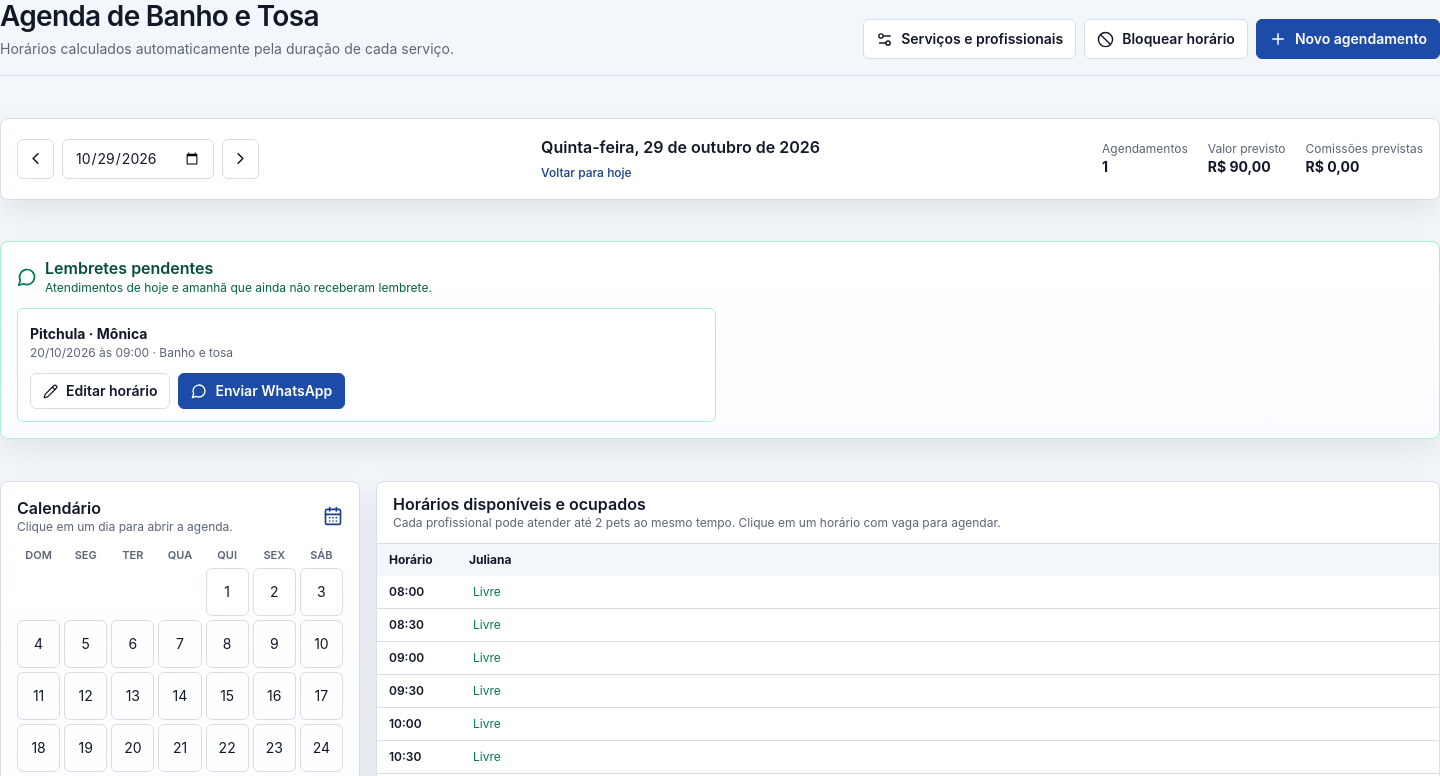
Test case: correção do horário na agenda › mantém o formulário e apresenta a mensagem quando o novo horário está lotado
Click the button "Editar horário" at (100, 391), box [30,373,170,409]
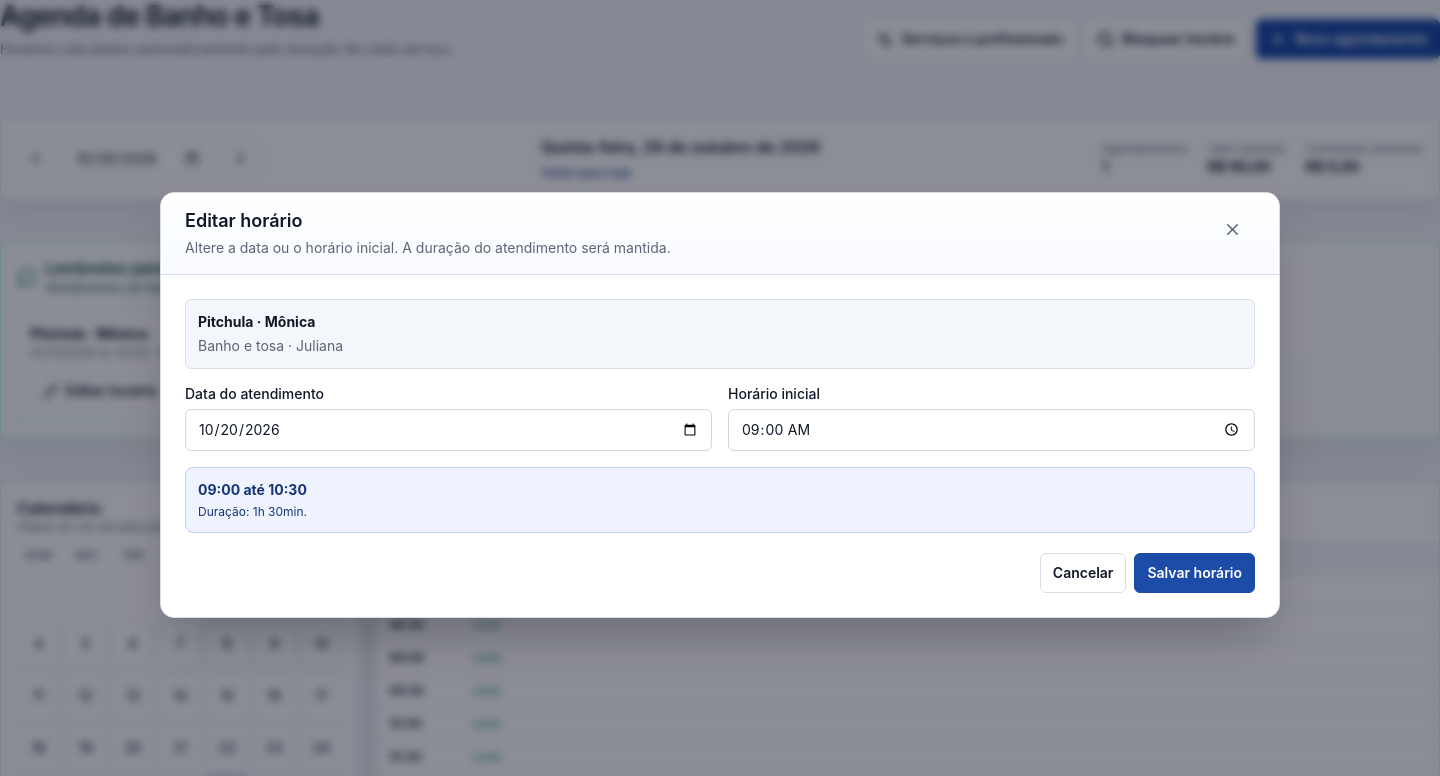
Replace the text in the time field labelled "Horário inicial" with "11:00" at (992, 430), box [728,409,1255,451]
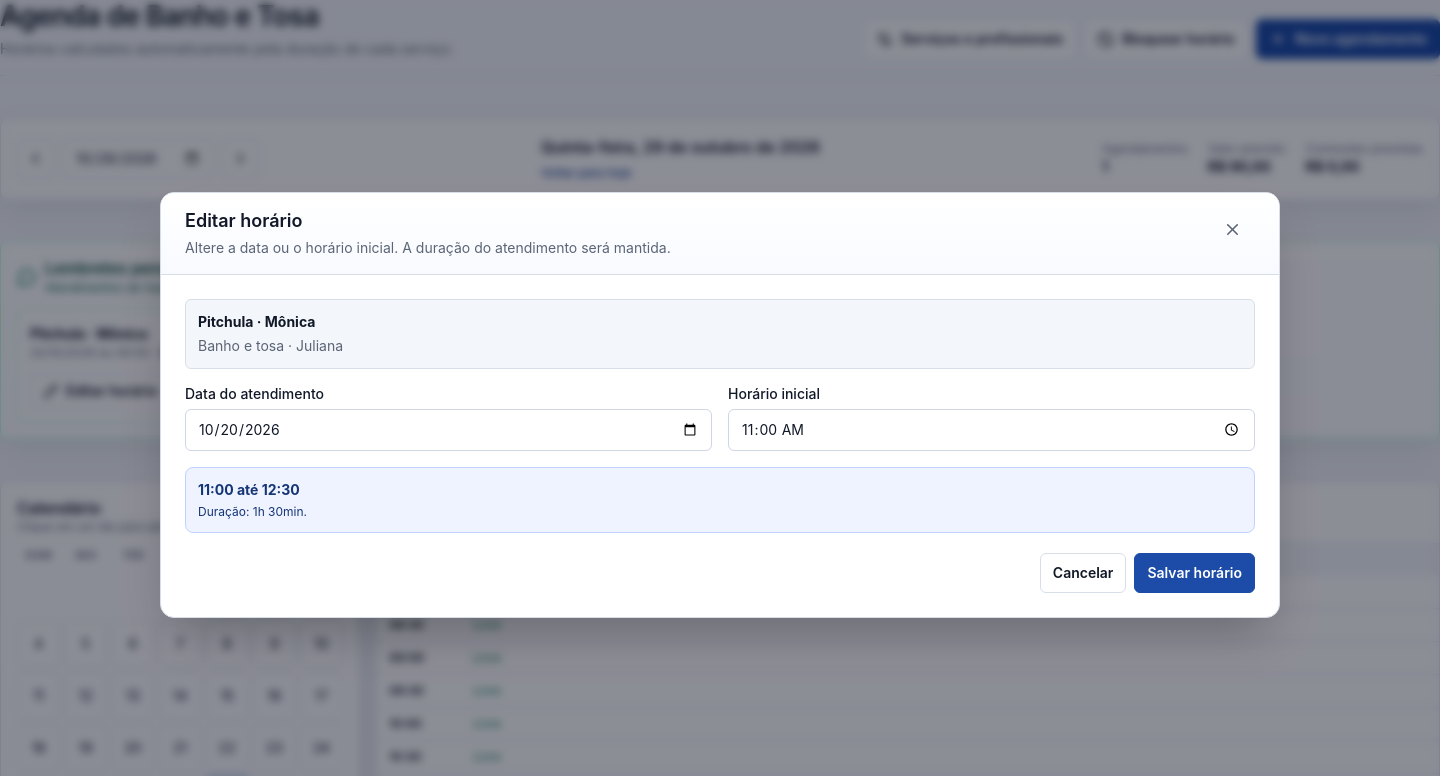
Click the button "Salvar horário" at (1195, 573), box [1134,553,1255,593]
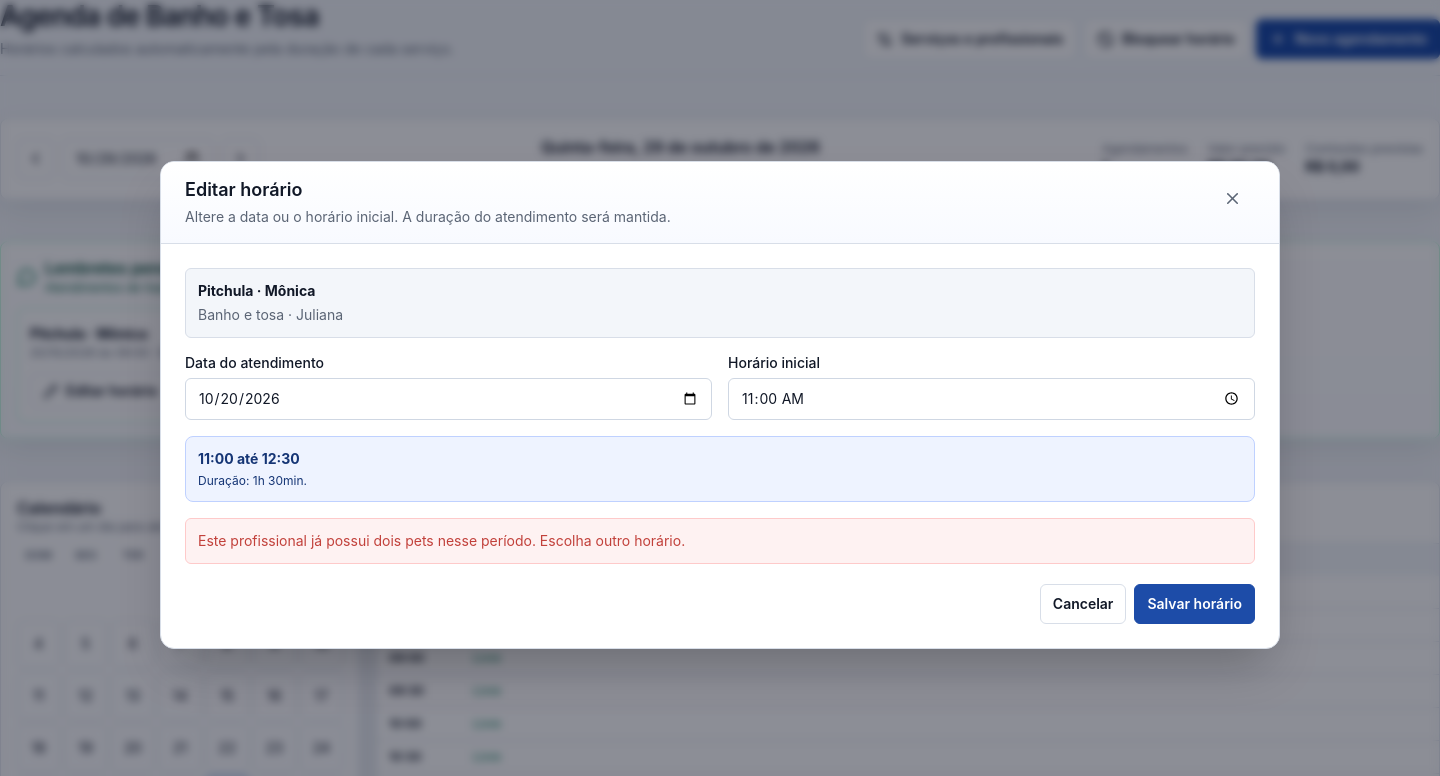
Result: the message shows "Este profissional já possui dois pets nesse período." at [198,532,685,549]
